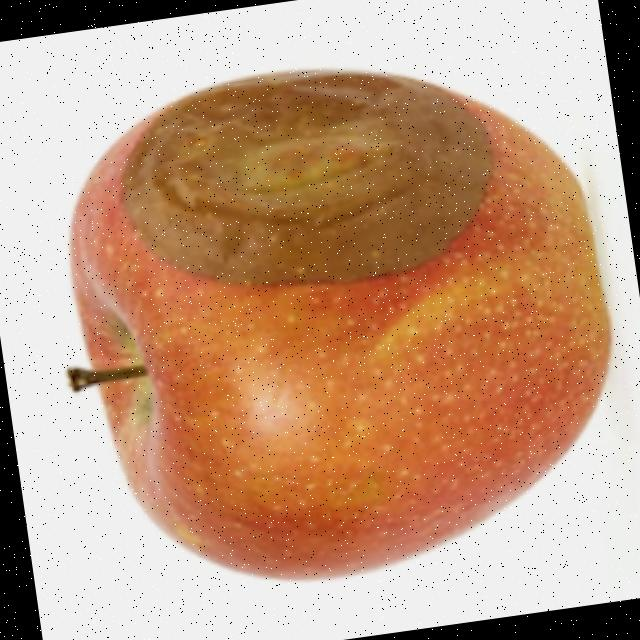Rotten: (44, 21, 640, 616)
